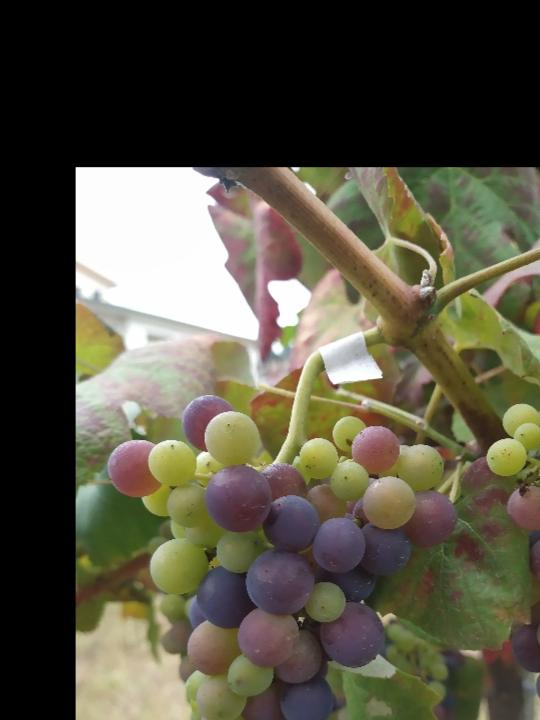grape: (99, 392, 459, 720), (484, 400, 540, 720)
